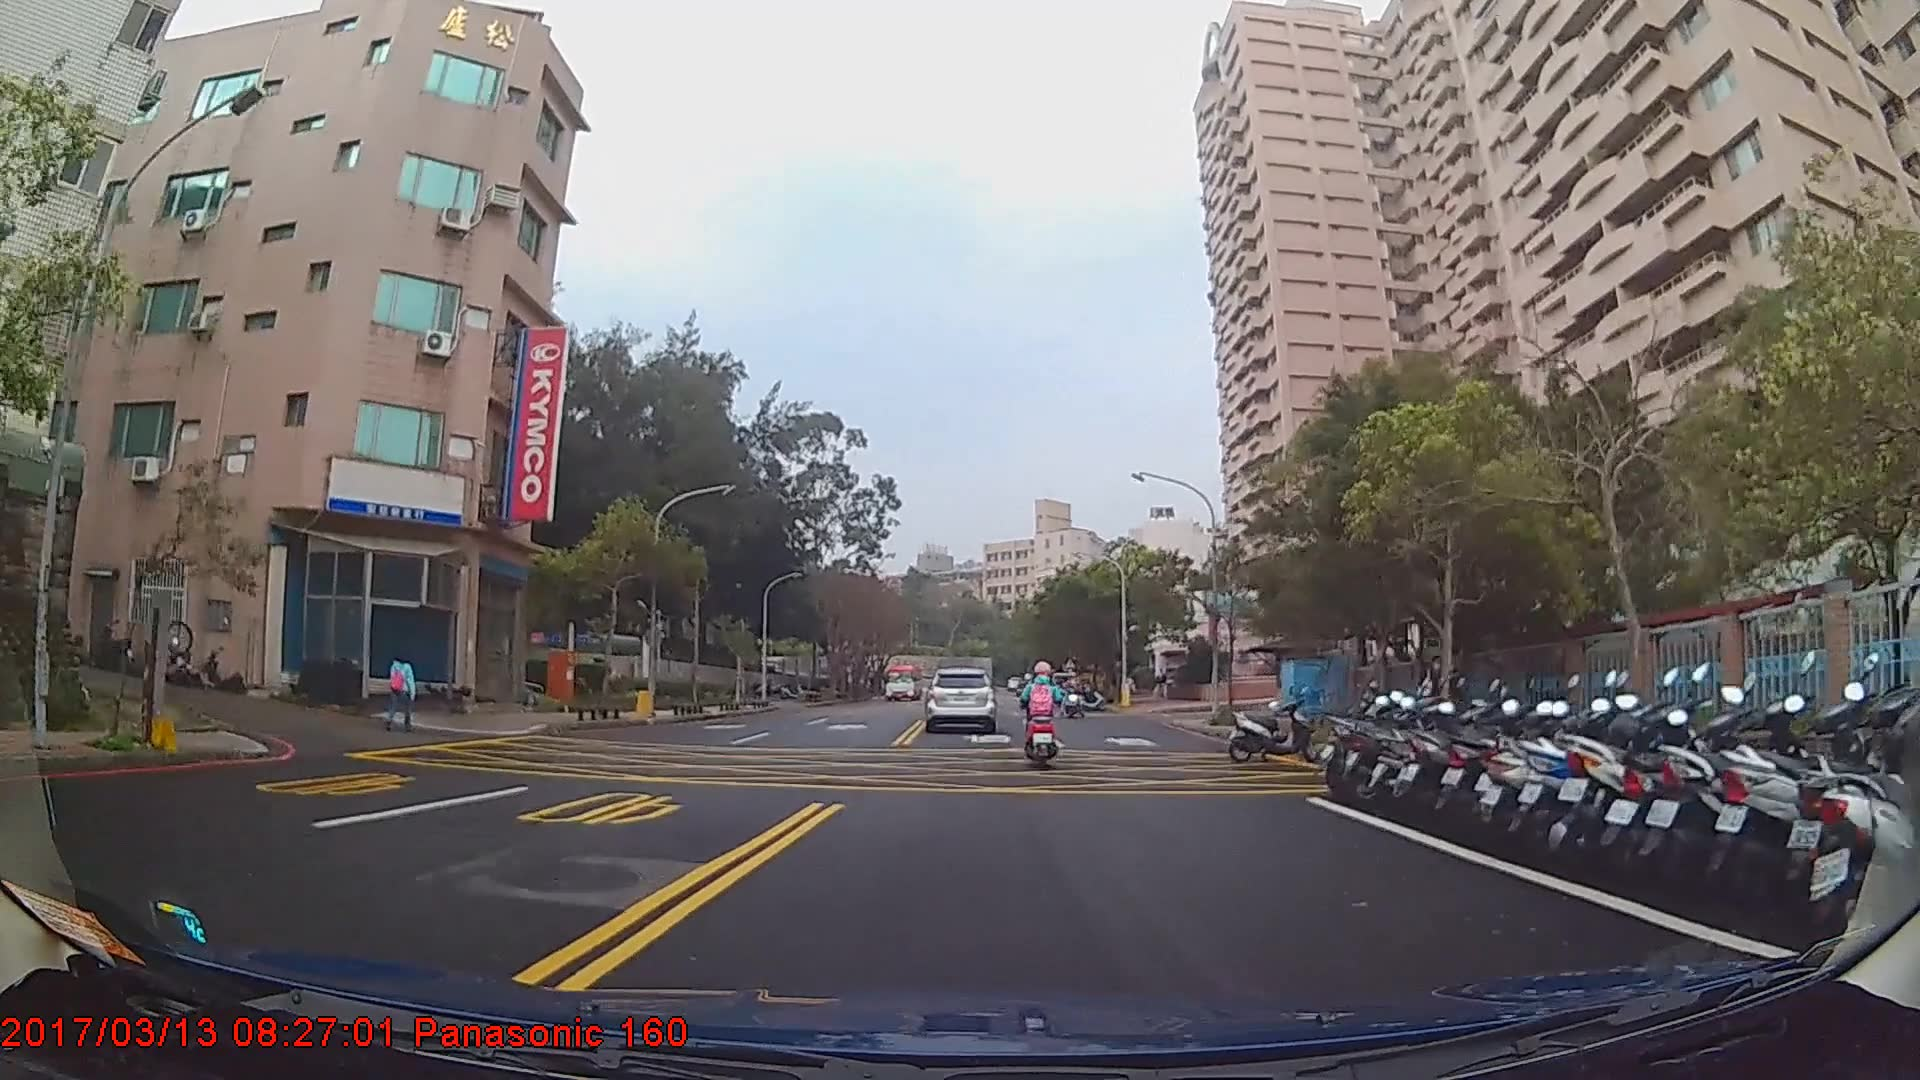pedestrian: (387, 644, 417, 736)
rider: (1018, 659, 1067, 774)
vehicle: (923, 667, 995, 733), (882, 665, 922, 703)
